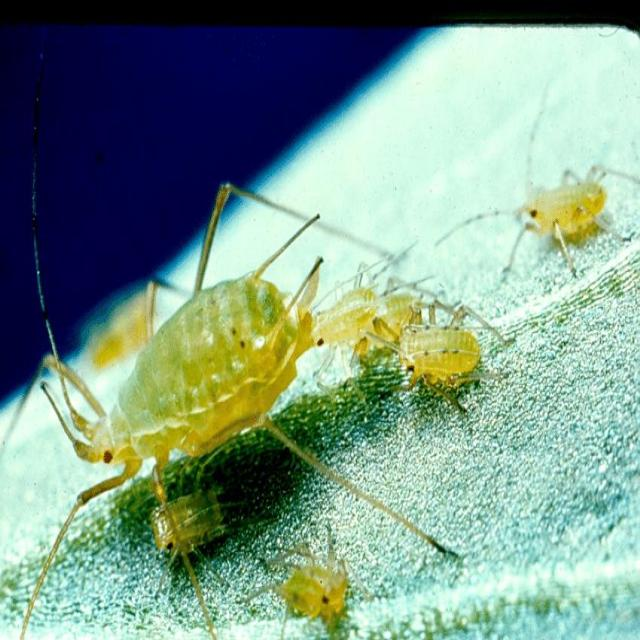Aphids: (22, 219, 372, 524), (381, 300, 506, 400), (264, 535, 374, 635), (134, 481, 258, 568), (509, 166, 625, 258)
